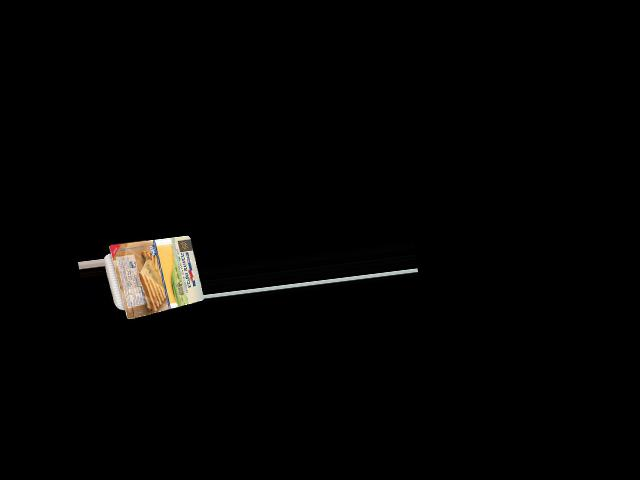cheese: (102, 237, 204, 319)
